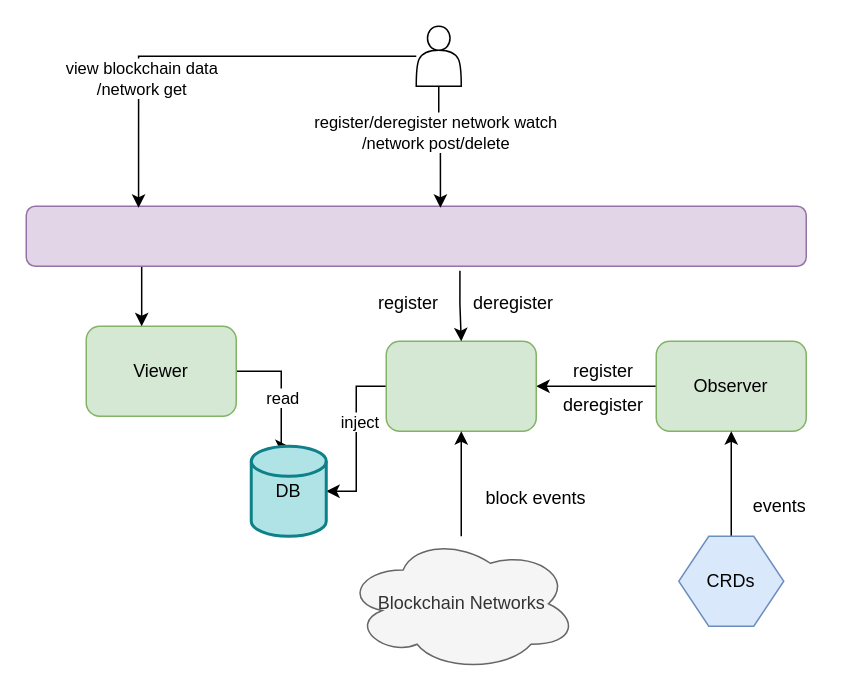
This 855x698 diagram has some shape labels left out. The centre of each missing label's shape, as x and y in pixels:
Listener: the point at 460,385
none/oidc/kubernetes: the point at 415,235
